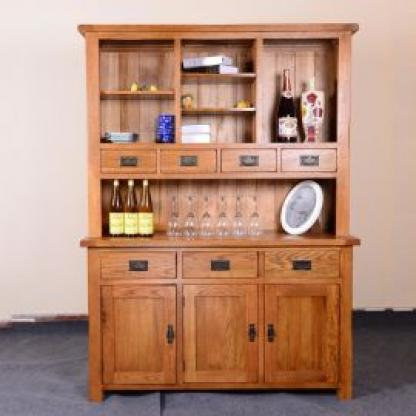Cupboard: (79, 25, 361, 401)
